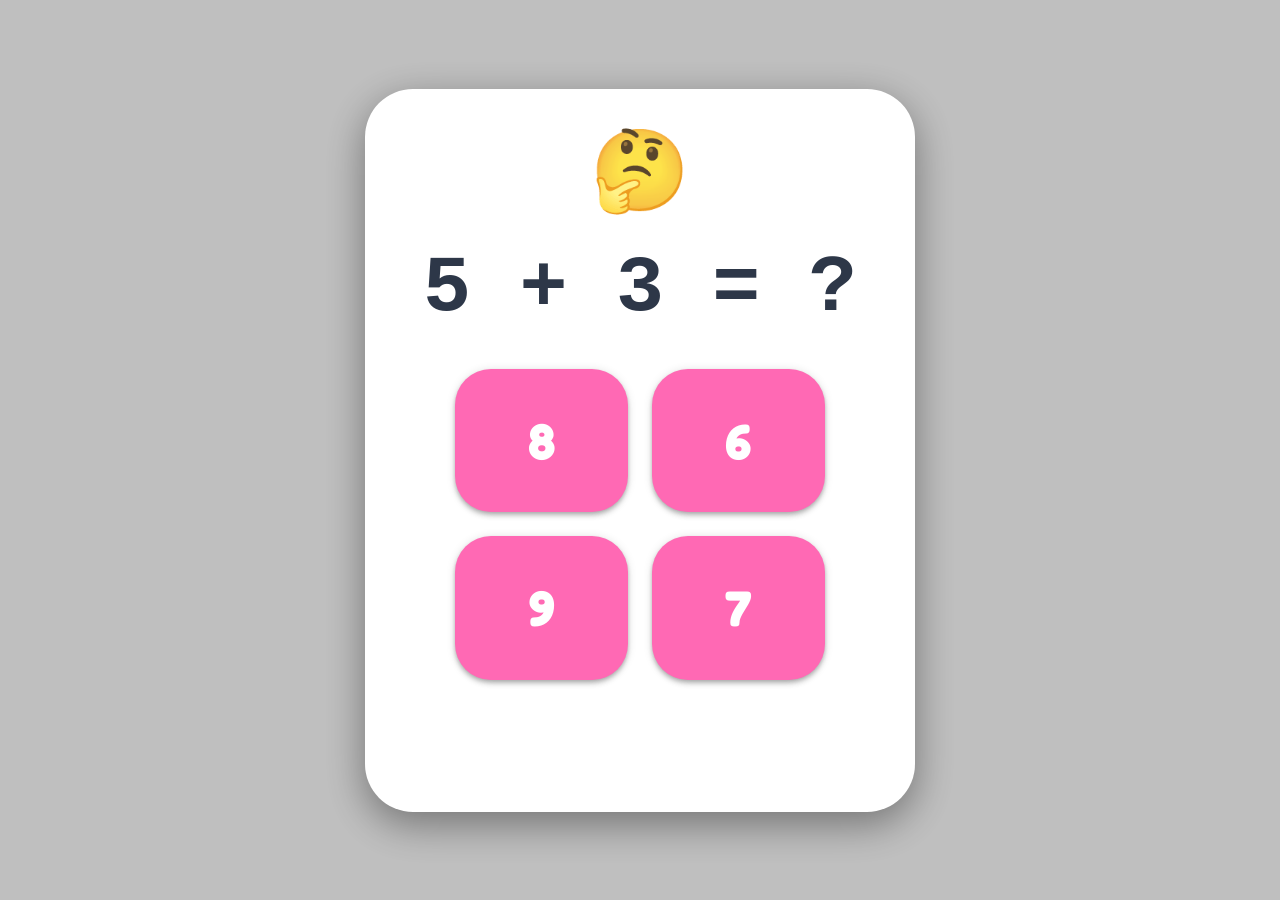
Scenario: MathModal › answer submission › disables buttons after an answer is selected
Click the button "8": [542, 440] box [455,368,628,512]
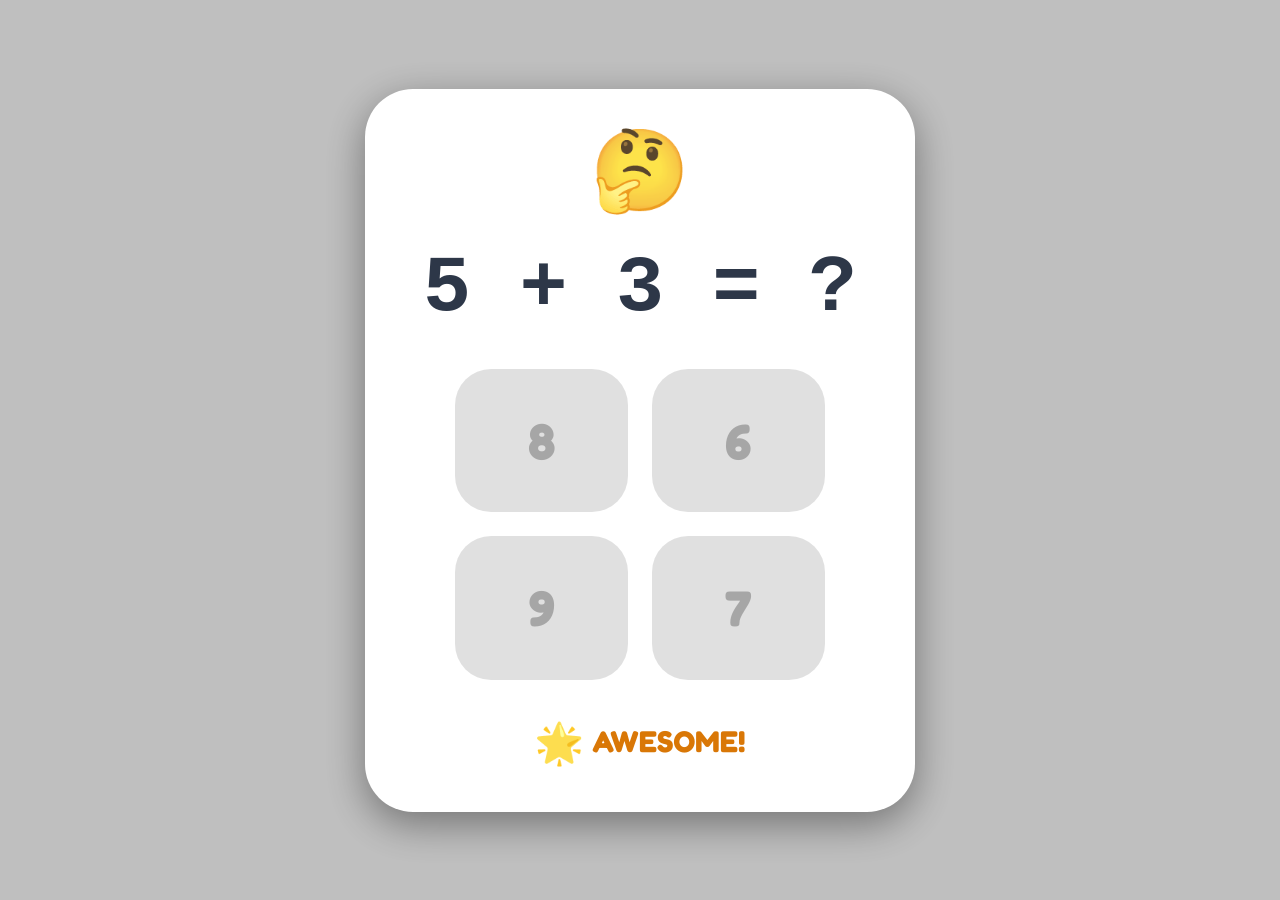
Now the button "8" is disabled, box [455,368,628,512]
Now the button "6" is disabled, box [652,368,825,512]
Now the button "9" is disabled, box [455,536,628,680]
